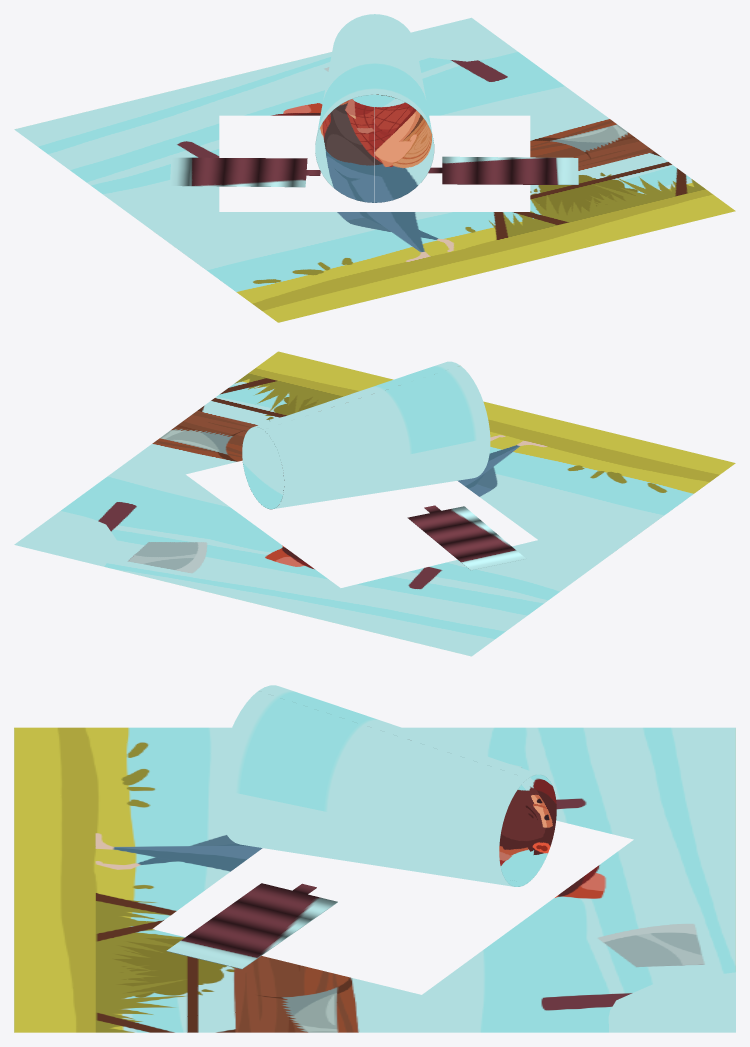
3 views of the same model, one above another, from view 1: azimuth 30°, elevation 25°; view 2: azimuth 150°, elevation 25°; view 3: azimuth 270°, elevation 25° (orthographic). The views are drawn at different scales.
Visible parts, largest first — view 1: Mesh, Blend1, Blend, Blend2, Blend3; view 2: Mesh, Blend, Blend1, Blend2; view 3: Mesh, Blend1, Blend, Blend3.
Part boxes in pixels (x1,y1,x2,y2): Mesh: [14, 17, 735, 322]; Blend1: [374, 14, 434, 202]; Blend: [315, 14, 374, 202]; Blend2: [170, 157, 320, 187]; Blend3: [428, 156, 578, 184]; Mesh: [14, 351, 735, 656]; Blend: [263, 366, 490, 509]; Blend1: [242, 361, 460, 506]; Blend2: [407, 505, 525, 570]; Mesh: [14, 727, 735, 1032]; Blend1: [217, 691, 527, 886]; Blend: [258, 685, 556, 882]; Blend3: [166, 883, 337, 969].
Bounding box in the file's own units: 2400 × 589 × 2400.
